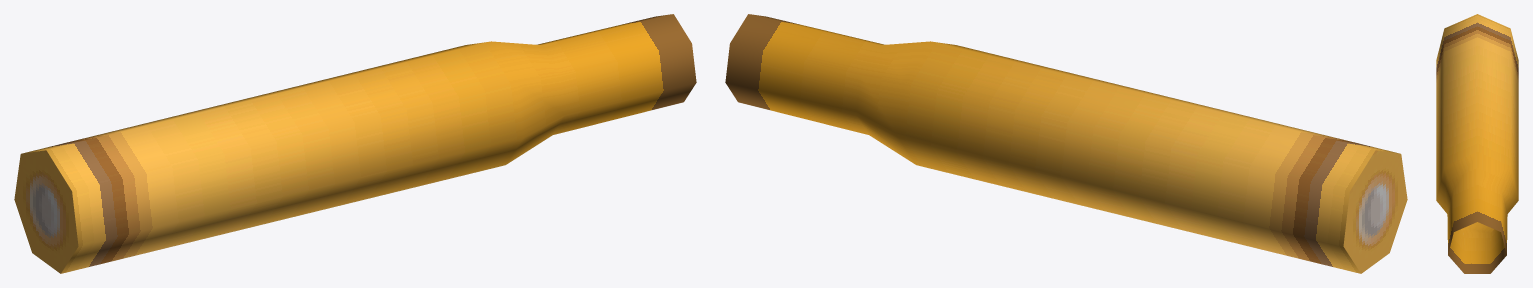
The model's file is 3030Round_Spent.fbx.
3 renders of one model, left to right at view 1: azimuth 30°, elevation 25°; view 2: azimuth 150°, elevation 25°; view 3: azimuth 270°, elevation 25°, orthographic. The views are drawn at different scales.
Visible parts, largest first — view 1: 3030ammo; view 2: 3030ammo; view 3: 3030ammo.
Boxes of the visible parts, box(x1,y1,x2,y2) form: 3030ammo: box(14, 14, 696, 273); 3030ammo: box(725, 14, 1407, 273); 3030ammo: box(1436, 14, 1518, 273).
Bounding box in the file's own units: 0.1029 × 0.0178 × 0.0182.
